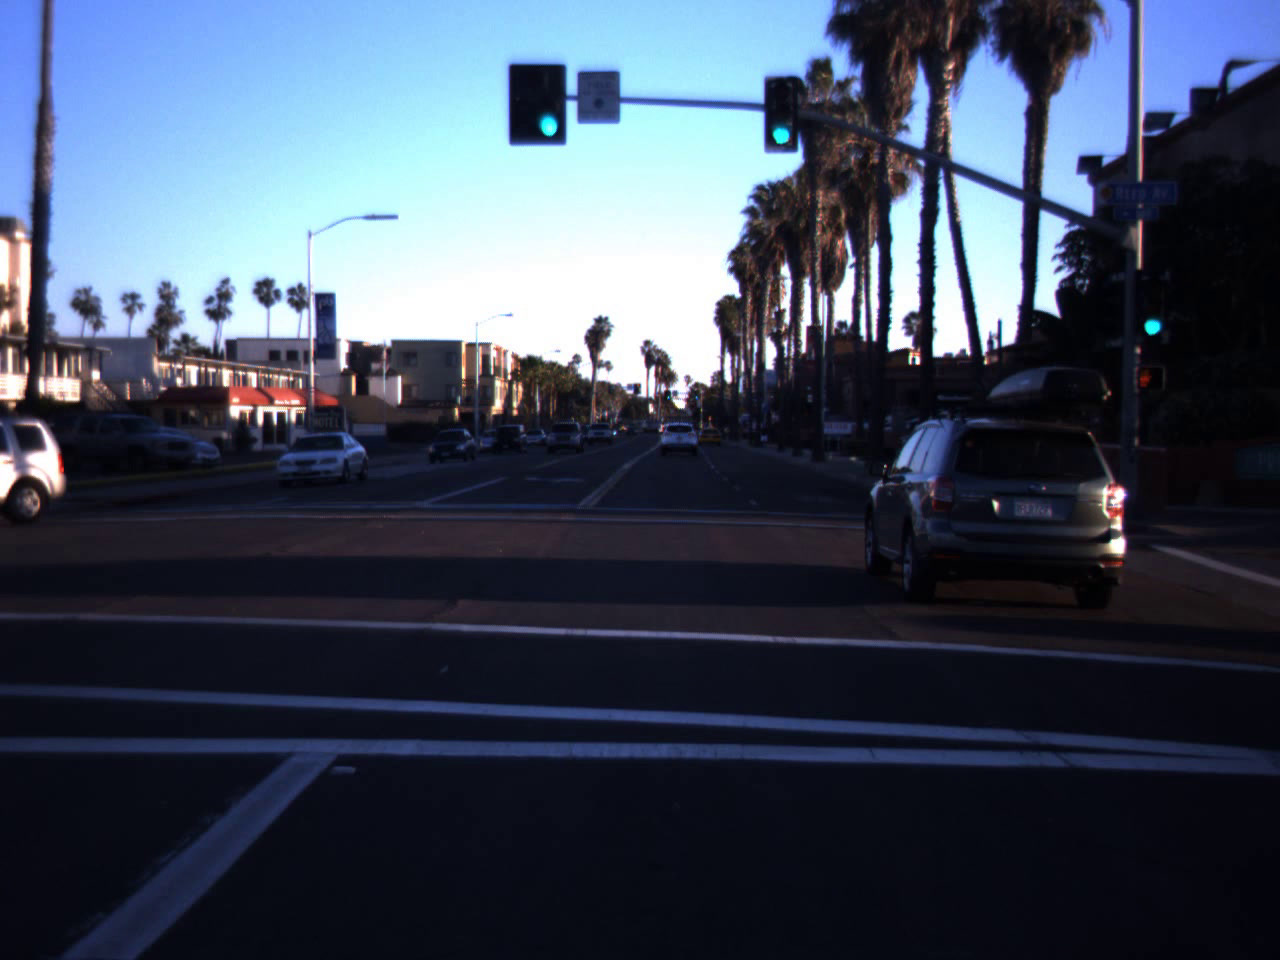go: (528, 55, 570, 145), (759, 80, 804, 150), (1132, 275, 1174, 340)
